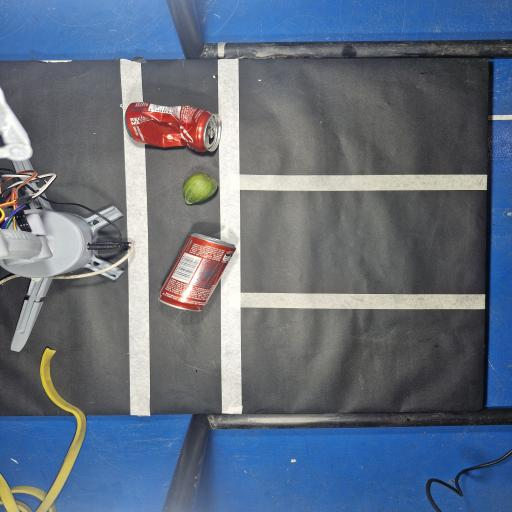higo: (183, 173, 217, 205)
lata: (160, 233, 236, 311)
lata_defectuoso: (125, 102, 221, 152)
